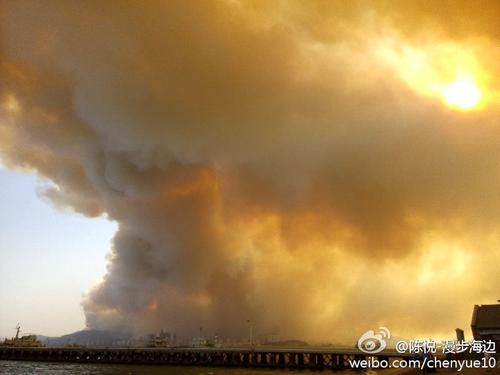smoke: (79, 11, 476, 323)
